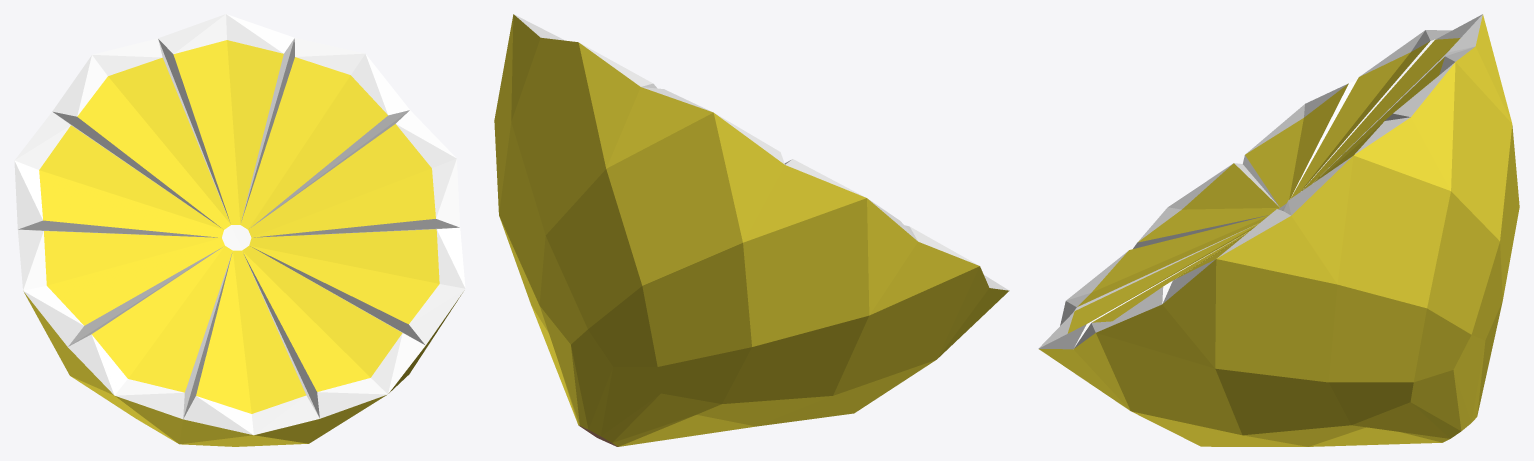
The model's file is lemons.glb.
The picture shows the model from 3 angles, left to right: view 1: azimuth 30°, elevation 25°; view 2: azimuth 150°, elevation 25°; view 3: azimuth 270°, elevation 25°; orthographic projection. The views are drawn at different scales.
Visible parts, largest first — view 1: node-0; view 2: node-0; view 3: node-0.
Boxes of the visible parts, x1,y1,x2,y2 form: node-0: [14, 14, 465, 446]; node-0: [494, 14, 1009, 446]; node-0: [1038, 14, 1519, 446].
Size of the model in its own units: 239 by 195 by 212.
